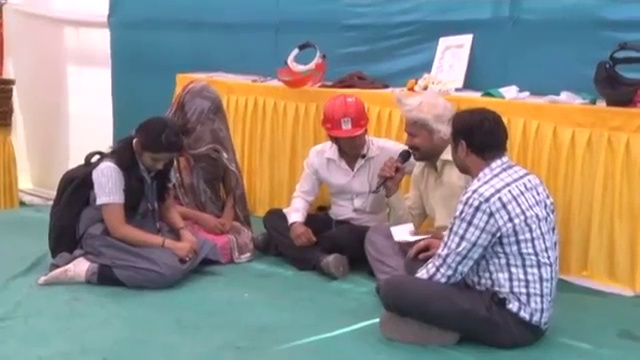helmet: (319, 98, 376, 141)
helmet_off: (450, 104, 513, 185), (399, 95, 456, 168), (169, 79, 226, 145), (123, 117, 184, 178)
helmet_on: (317, 99, 375, 165)
person: (375, 105, 566, 346), (41, 115, 208, 291), (251, 95, 409, 276), (368, 93, 476, 280), (154, 76, 251, 264)
